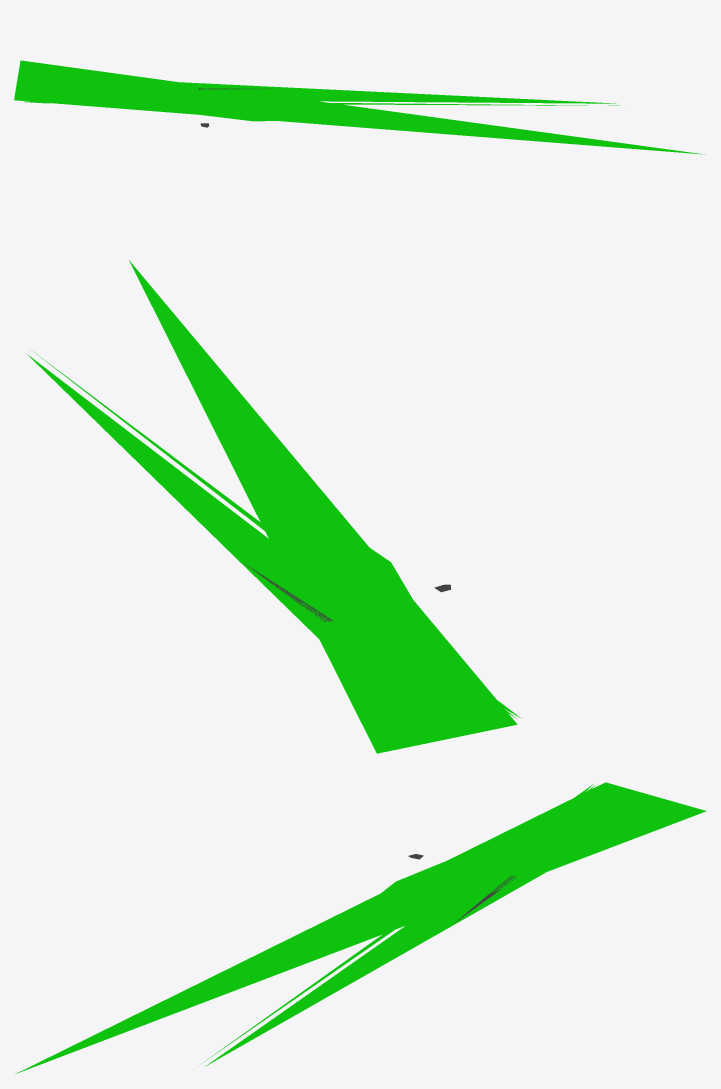
3 renders of one model, top to bottom at view 1: azimuth 30°, elevation 25°; view 2: azimuth 150°, elevation 25°; view 3: azimuth 270°, elevation 25°, orthographic. The views are drawn at different scales.
Size of the model in its own units: 300 by 0 by 300.
